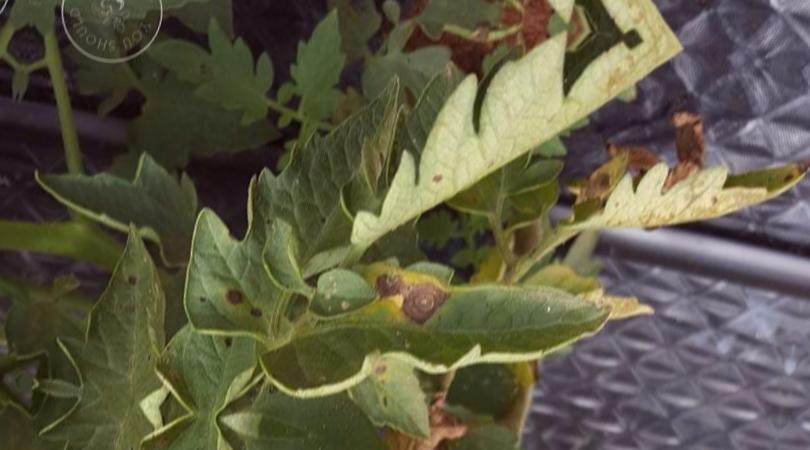Tomato Early blight leaf: (253, 227, 651, 450)
Tomato leaf: (18, 127, 219, 279), (127, 11, 286, 140)
